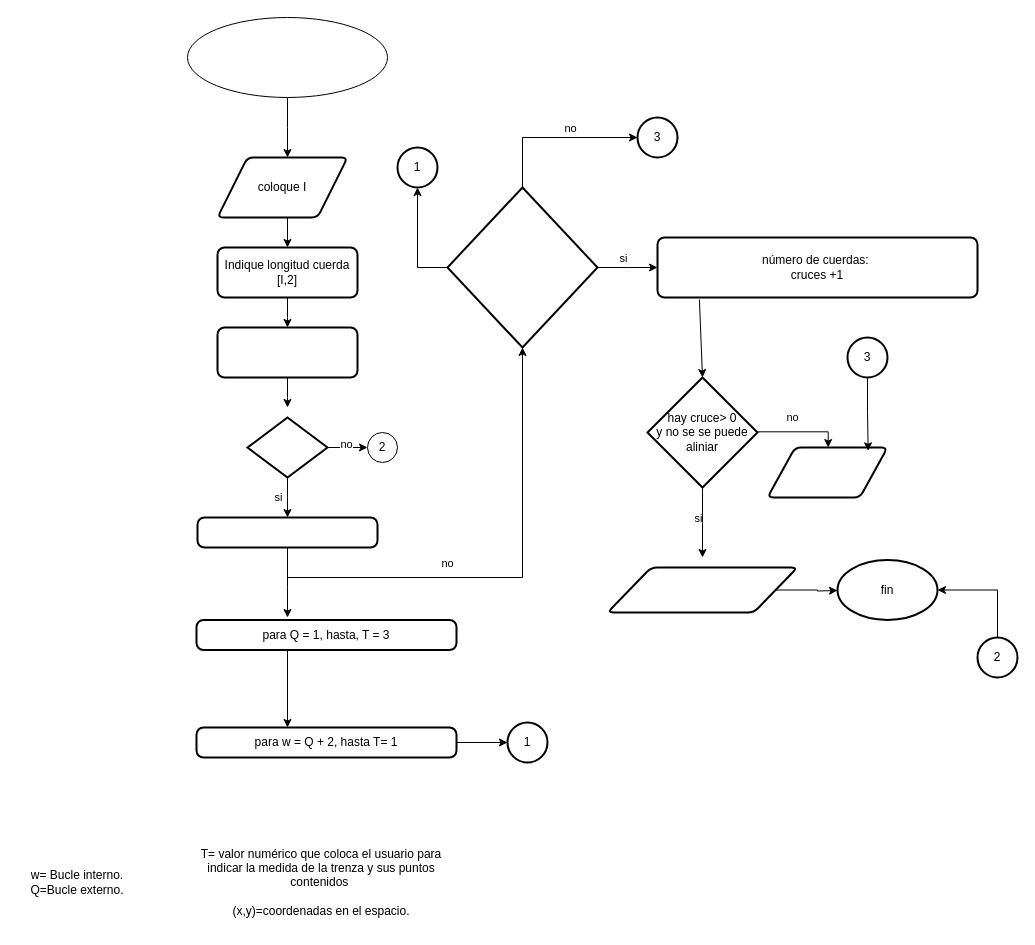
Image size: 1035x945. Some labels were removed from this diagram. The centre of each missing label's shape, as x and y in pixels:
"hay nudo" goes at pixel 702 589.
"Inicio" goes at pixel 287 57.
"no hay nudo" goes at pixel 827 472.
"número de cruces = 0" goes at pixel 287 532.
"Para Q = 1... T: Colocar (x,y)" goes at pixel 287 352.
"¿se intercentan las medidas q( (q+1) y W (w+1)?" goes at pixel 522 267.
"¿T<4?" goes at pixel 287 447.
